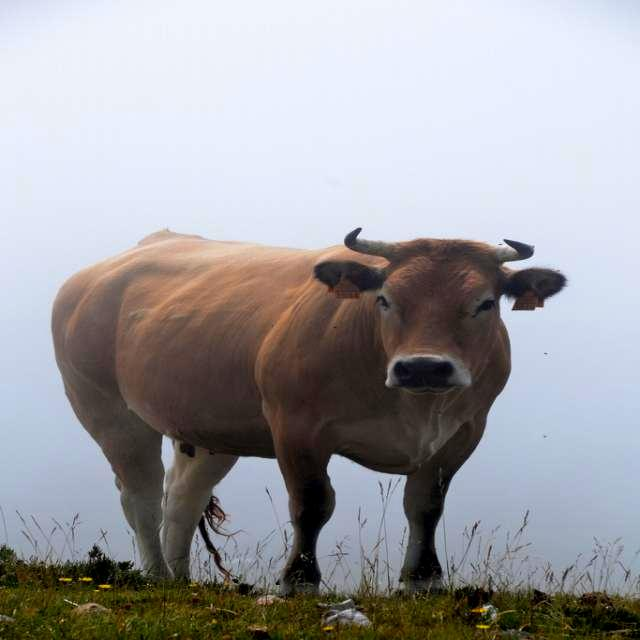COW: (52, 229, 565, 593)
